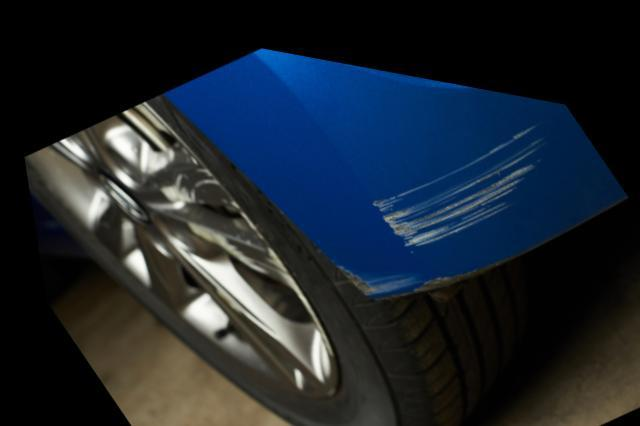scratch: (363, 100, 553, 235), (328, 238, 508, 288)
